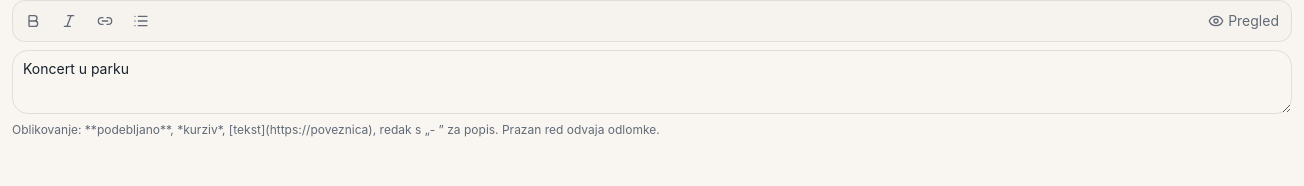
RichTextEditor › wraps the selection, inserts links and lists, previews, and submits the text through a form field
Click the button named "Podebljano (Ctrl+B)" at [33, 21], box [17, 5, 49, 37]
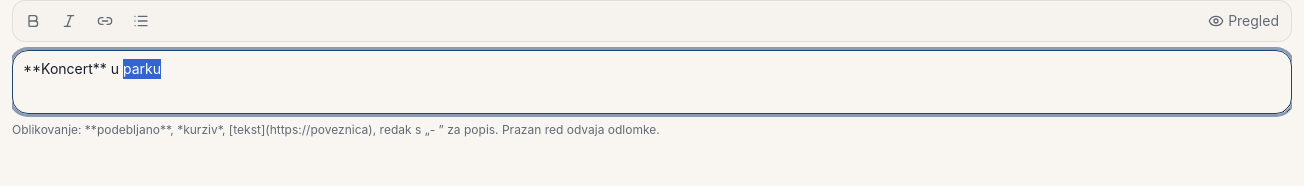
Result: the text box holds "**Koncert** u parku" at [12, 50, 1292, 114]
Click the button named "Poveznica (Ctrl+K)" at [105, 21], box [89, 5, 121, 37]
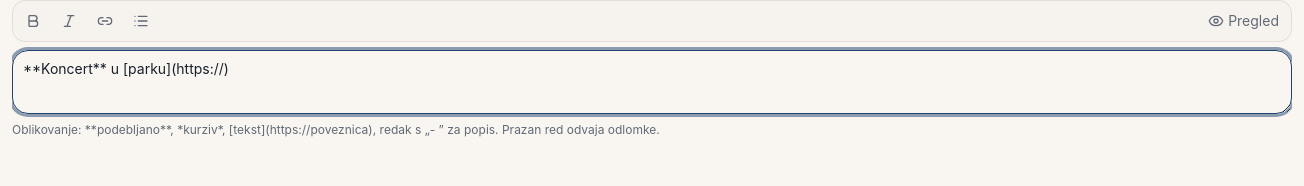
Result: the text box holds "**Koncert** u [parku](https://)" at [12, 50, 1292, 114]
Click the button named "Popis" at [141, 21], box [125, 5, 157, 37]
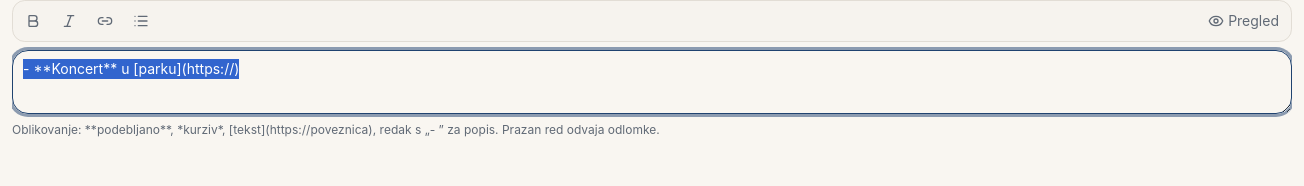
Click the button "Pregled" at [1244, 21], box [1200, 5, 1287, 37]
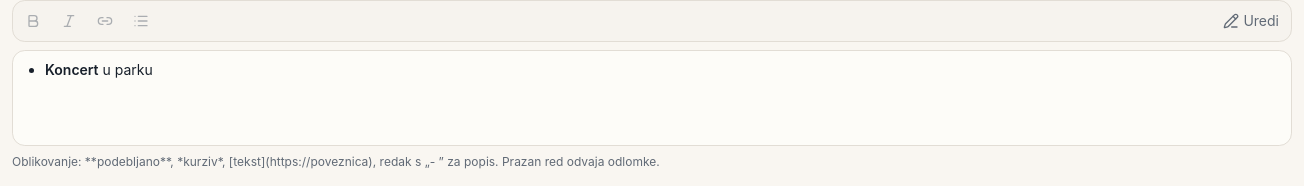
Result: the text "Koncert" is shown at [45, 61, 99, 78]
